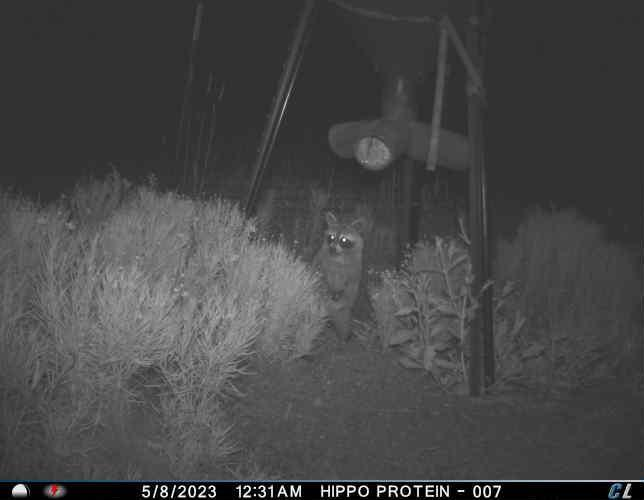Raccoon: (300, 209, 377, 341)
